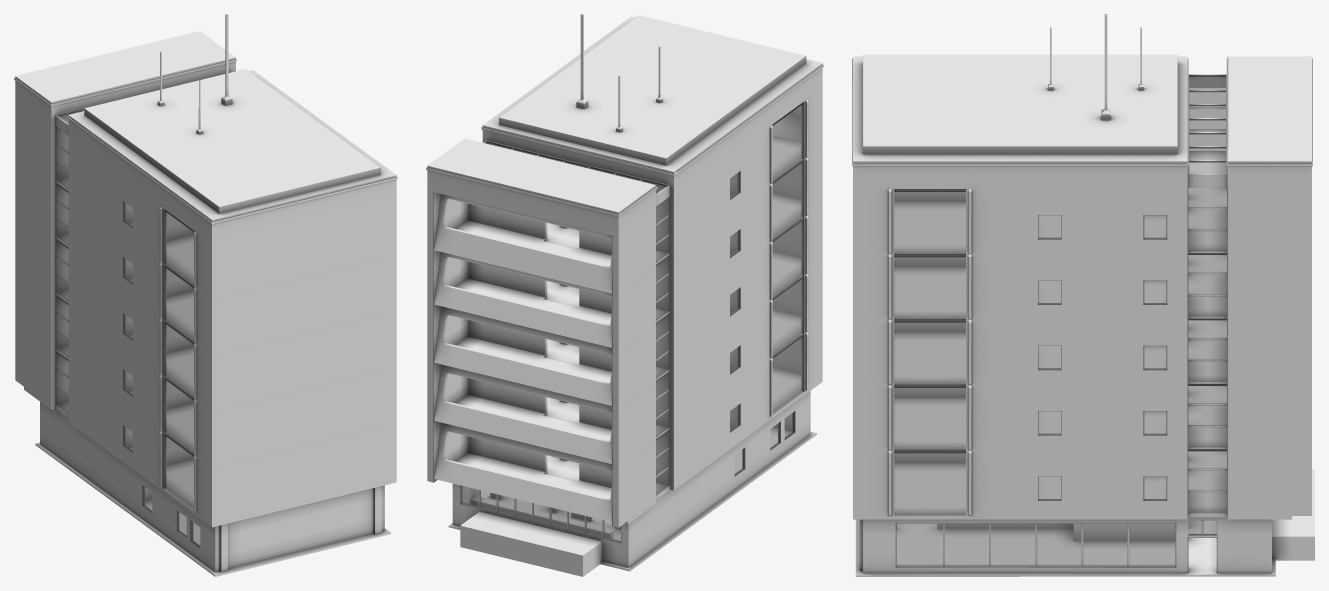
Rendered from residential_003.obj.
3 renders of one model, left to right at view 1: azimuth 30°, elevation 25°; view 2: azimuth 150°, elevation 25°; view 3: azimuth 270°, elevation 25°, orthographic. The views are drawn at different scales.
Visible parts, largest first — view 1: Residential_Buildings_003_Cube.011; view 2: Residential_Buildings_003_Cube.011; view 3: Residential_Buildings_003_Cube.011.
Part boxes in pixels (left/top/right/bottom): Residential_Buildings_003_Cube.011: left=14, top=14, right=397, bottom=576; Residential_Buildings_003_Cube.011: left=426, top=14, right=823, bottom=576; Residential_Buildings_003_Cube.011: left=852, top=14, right=1314, bottom=576.
Size of the model in its own units: 12.59 by 29.19 by 23.1.
2 materials, 1 textured.
